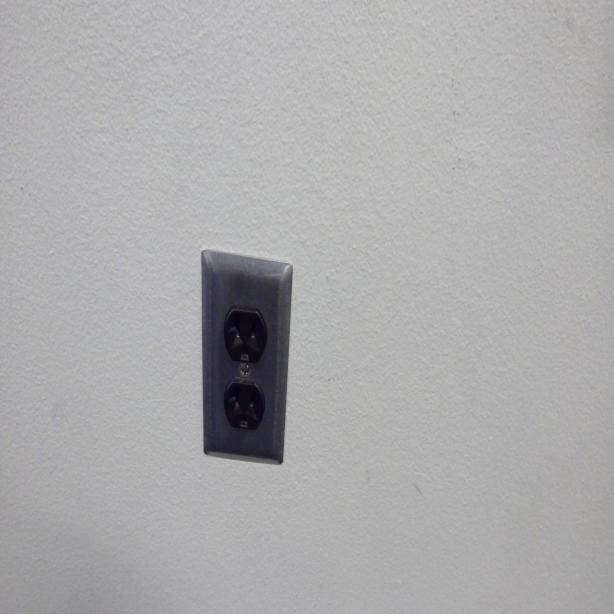typeb: (226, 307, 265, 363), (228, 382, 263, 430)
